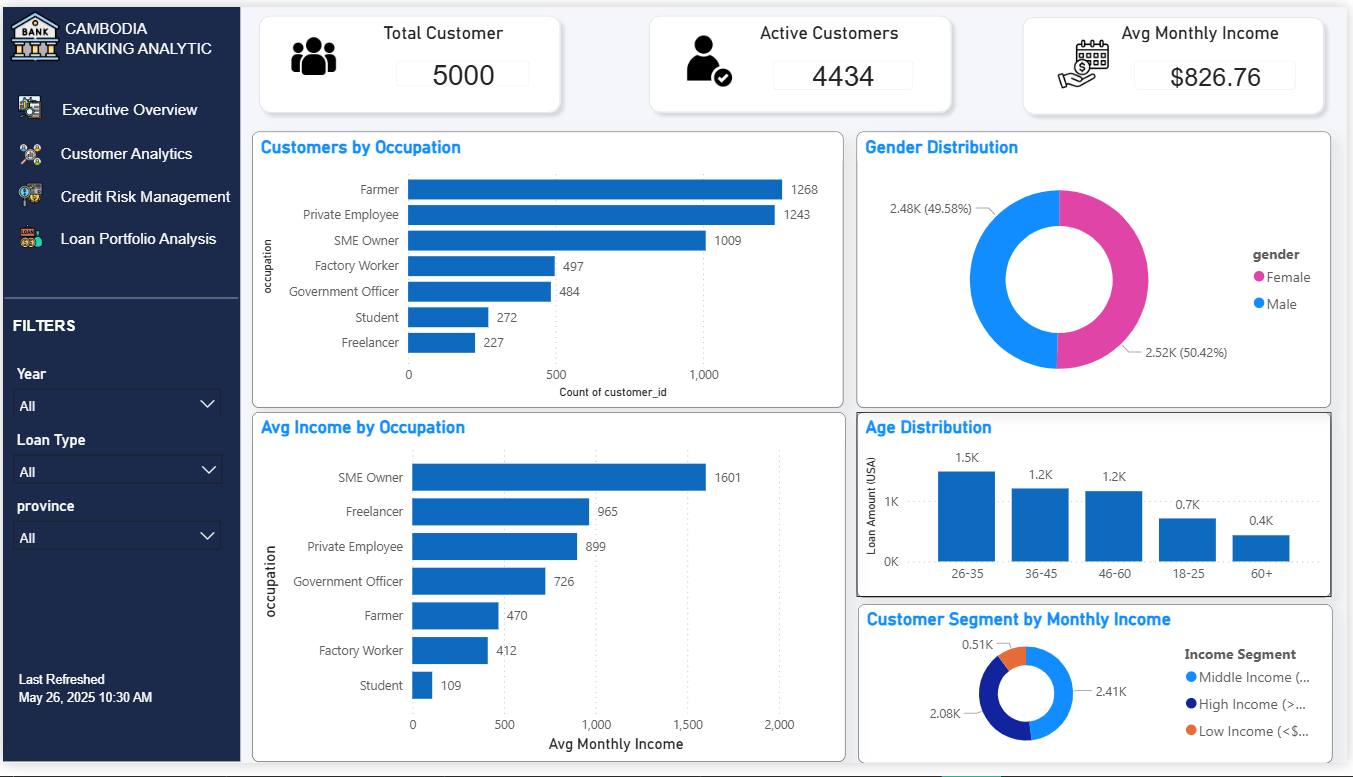

The page's visual inventory and layout, read from the dashboard file:
{"tool":"powerbi","page":{"name":"Customer Analytics","canvas":[1280,720],"ordinal":1},"visuals":[{"type":"shape","box":[235.6,0,303.3,108.9],"z":0},{"type":"shape","box":[0.5,0,226,718.5],"z":1000},{"type":"textbox","box":[54,6,168.5,48.5],"z":2000},{"type":"image","box":[0,4.3,61.4,47.1],"z":3000},{"type":"textbox","box":[42.9,82.9,155.7,38.6],"z":4000},{"type":"textbox","box":[50.6,123.8,147.5,33.1],"z":5000},{"type":"textbox","box":[50.4,166.1,185.7,33],"z":6000},{"type":"textbox","box":[50.6,206.2,186.2,33.8],"z":7000},{"type":"image","box":[10.7,129.3,29.3,21.4],"z":8000},{"type":"image","box":[7.9,166.4,34.3,24.3],"z":9000},{"type":"image","box":[7.9,84.3,34.3,22.1],"z":10000},{"type":"image","box":[10.7,206.4,31.4,22.1],"z":11000},{"type":"shape","box":[327.8,121.1,292.2,107.8],"z":12000},{"type":"cardVisual","title":"Total Customer","fields":{"Data":["Count(public customers.customer_id)"]},"box":[357.8,14.4,161.1,78.9],"z":13000},{"type":"image","box":[264.4,23.3,63.3,47.8],"z":14000},{"type":"shape","box":[607.1,0,304.3,108.6],"z":15000},{"type":"cardVisual","title":"Active Customers","fields":{"Data":["Count(public customers.customer_id)"]},"box":[715.7,14.3,168.6,81.4],"z":16000},{"type":"image","box":[640,27.1,65.7,48.6],"z":17000},{"type":"clusteredColumnChart","title":"Age Distribution","fields":{"Category":["public customers.Age Group"],"Y":["Count(public customers.customer_id)"]},"box":[813.3,385,451.7,176.7],"z":18000},{"type":"donutChart","title":"Customer Segment by Monthly Income","fields":{"Y":["CountNonNull(public customers.customer_id)"],"Category":["public customers.Income Segment"]},"box":[813.6,568.2,451.8,151.8],"z":19000},{"type":"textbox","box":[10,624.3,172.9,51.4],"z":20000},{"type":"slicer","fields":{"Values":["public loans.loan_type"]},"box":[0,398.6,218.6,62.9],"z":21000},{"type":"slicer","fields":{"Values":["public customers.province"]},"box":[0,461.4,217.1,62.9],"z":22000},{"type":"slicer","fields":{"Values":["public customers.join_date.Variation.Date Hierarchy.Year"]},"box":[0,335.7,217.1,54.3],"z":23000},{"type":"clusteredBarChart","title":" Customers by Occupation","fields":{"Category":["public customers.occupation"],"Y":["Count(public customers.customer_id)"]},"box":[236.7,118.3,563.3,263.3],"z":24000},{"type":"clusteredBarChart","title":"Avg Income by Occupation","fields":{"Category":["public customers.occupation"],"Y":["Avg(public customers.monthly_income)"]},"box":[236.7,385,565,333.3],"z":25000},{"type":"donutChart","title":"Gender Distribution","fields":{"Category":["public customers.gender"],"Y":["Count(public customers.customer_id)"]},"box":[813.3,118.3,451.7,263.3],"z":26000},{"type":"shape","box":[962.2,1.1,303.3,108.9],"z":27000},{"type":"cardVisual","title":"Avg Monthly Income","fields":{"Data":["public accounts.Avg Monthly Income"]},"box":[1060,14.4,188.9,82.2],"z":28000},{"type":"image","box":[996.7,30,63.3,48.3],"z":29000},{"type":"textbox","box":[4.3,288.6,185.7,34.3],"z":29001},{"type":"shape","box":[1.4,248.6,222.9,57.1],"z":29002}]}

Visuals, with their boxes on the page's 1280x720 design canvas (x1, y1, x2, y2). These are canvas units, not pixel positions in the 1353x777 screenshot, which may show the page scaled, cropped or inside an application window:
shape: pyautogui.locateOnScreen(236, 0, 539, 109)
shape: pyautogui.locateOnScreen(0, 0, 226, 718)
textbox: pyautogui.locateOnScreen(54, 6, 222, 54)
image: pyautogui.locateOnScreen(0, 4, 61, 51)
textbox: pyautogui.locateOnScreen(43, 83, 199, 122)
textbox: pyautogui.locateOnScreen(51, 124, 198, 157)
textbox: pyautogui.locateOnScreen(50, 166, 236, 199)
textbox: pyautogui.locateOnScreen(51, 206, 237, 240)
image: pyautogui.locateOnScreen(11, 129, 40, 151)
image: pyautogui.locateOnScreen(8, 166, 42, 191)
image: pyautogui.locateOnScreen(8, 84, 42, 106)
image: pyautogui.locateOnScreen(11, 206, 42, 228)
shape: pyautogui.locateOnScreen(328, 121, 620, 229)
"Total Customer" cardVisual: pyautogui.locateOnScreen(358, 14, 519, 93)
image: pyautogui.locateOnScreen(264, 23, 328, 71)
shape: pyautogui.locateOnScreen(607, 0, 911, 109)
"Active Customers" cardVisual: pyautogui.locateOnScreen(716, 14, 884, 96)
image: pyautogui.locateOnScreen(640, 27, 706, 76)
"Age Distribution" clusteredColumnChart: pyautogui.locateOnScreen(813, 385, 1265, 562)
"Customer Segment by Monthly Income" donutChart: pyautogui.locateOnScreen(814, 568, 1265, 720)
textbox: pyautogui.locateOnScreen(10, 624, 183, 676)
slicer - public loans.loan_type: pyautogui.locateOnScreen(0, 399, 219, 462)
slicer - public customers.province: pyautogui.locateOnScreen(0, 461, 217, 524)
slicer - public customers.join_date.Variation.Date Hierarchy.Year: pyautogui.locateOnScreen(0, 336, 217, 390)
" Customers by Occupation" clusteredBarChart: pyautogui.locateOnScreen(237, 118, 800, 382)
"Avg Income by Occupation" clusteredBarChart: pyautogui.locateOnScreen(237, 385, 802, 718)
"Gender Distribution" donutChart: pyautogui.locateOnScreen(813, 118, 1265, 382)
shape: pyautogui.locateOnScreen(962, 1, 1266, 110)
"Avg Monthly Income" cardVisual: pyautogui.locateOnScreen(1060, 14, 1249, 97)
image: pyautogui.locateOnScreen(997, 30, 1060, 78)
textbox: pyautogui.locateOnScreen(4, 289, 190, 323)
shape: pyautogui.locateOnScreen(1, 249, 224, 306)
